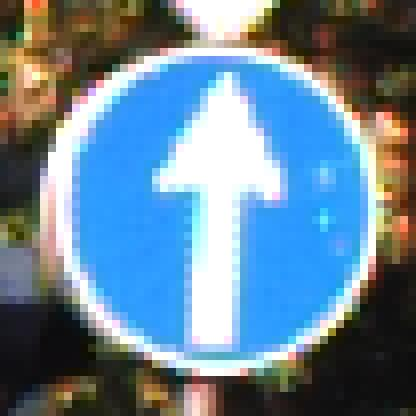AheadOnly: (41, 41, 377, 377)
